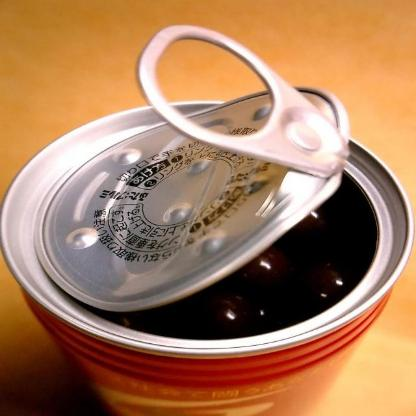Can: (0, 19, 416, 416)
